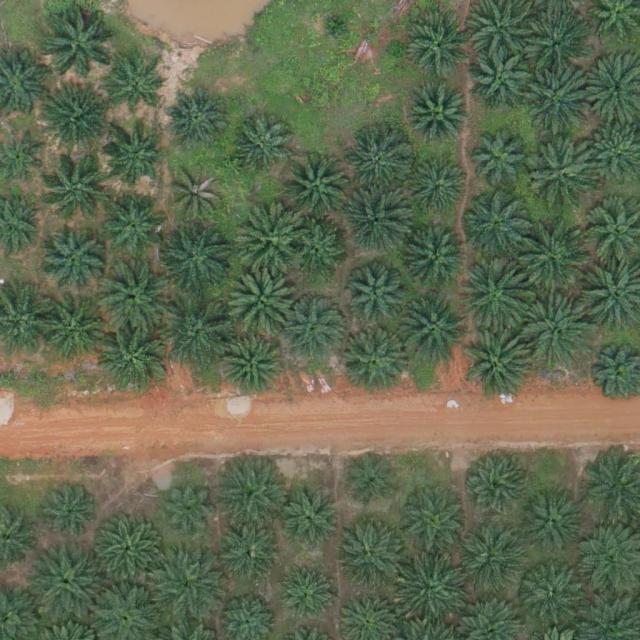Dead: (171, 169, 225, 224)
Healthy: (90, 516, 161, 587), (331, 520, 402, 591), (525, 64, 596, 135), (457, 262, 528, 333), (342, 325, 413, 396), (154, 553, 225, 623), (397, 486, 467, 557), (217, 455, 287, 526), (529, 137, 599, 208), (517, 220, 587, 291), (522, 300, 592, 371), (465, 331, 535, 402), (462, 190, 532, 261), (397, 295, 467, 366), (165, 299, 235, 370), (99, 262, 169, 333), (99, 325, 170, 395), (44, 151, 114, 222), (39, 86, 109, 157), (45, 6, 115, 77), (36, 547, 106, 617), (396, 558, 466, 628), (342, 187, 412, 257), (282, 152, 352, 222), (234, 204, 304, 274), (226, 265, 296, 335), (162, 224, 232, 294), (37, 298, 107, 368), (39, 481, 102, 544), (469, 130, 532, 193), (345, 268, 408, 331), (102, 128, 165, 191), (102, 192, 165, 255), (524, 488, 586, 551), (523, 569, 585, 632), (457, 528, 520, 590), (464, 455, 527, 517), (275, 561, 338, 623), (218, 524, 280, 587), (470, 49, 532, 112), (347, 134, 410, 196), (284, 296, 346, 359), (230, 115, 292, 178), (220, 335, 283, 397), (165, 87, 228, 149), (41, 229, 103, 292), (280, 484, 342, 546), (526, 13, 588, 75), (408, 18, 470, 80), (409, 86, 471, 148), (409, 159, 471, 221), (406, 231, 468, 293), (345, 453, 400, 508), (290, 223, 345, 278), (165, 483, 219, 538), (110, 63, 164, 118)
Small: (320, 10, 351, 42)
